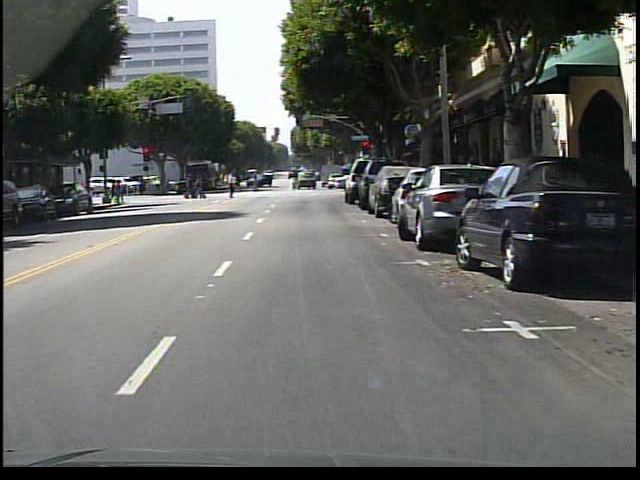person: (219, 170, 240, 201)
